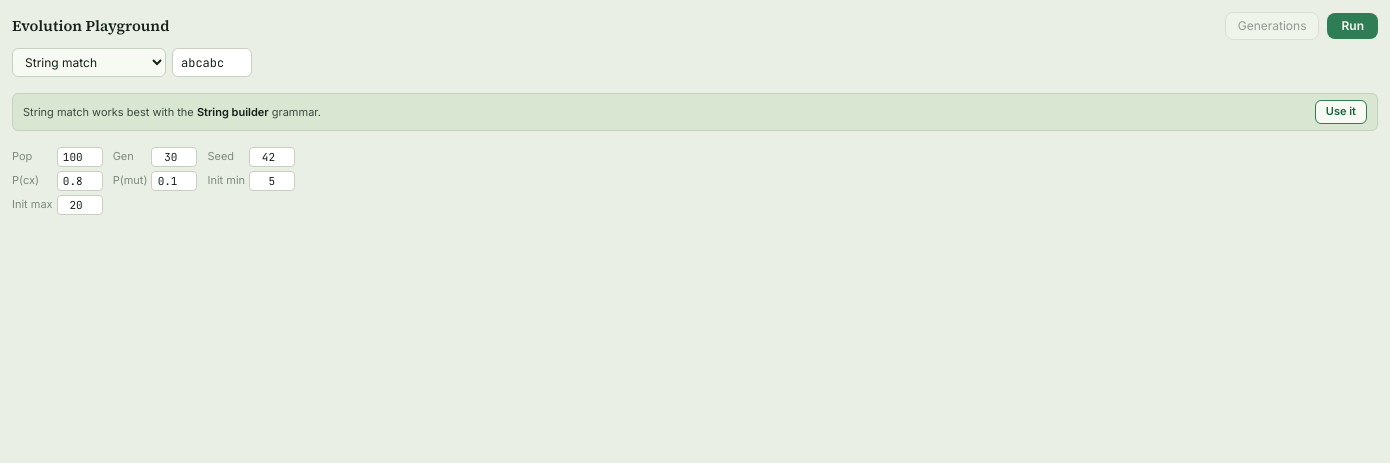
Test: EvolutionPanel › blocks a run while the custom fitness cannot compile
This screenshot has width=1390, height=463.
Select "Custom (Python)" in the dropdown: {"x": 89, "y": 63} [12,48,166,77]
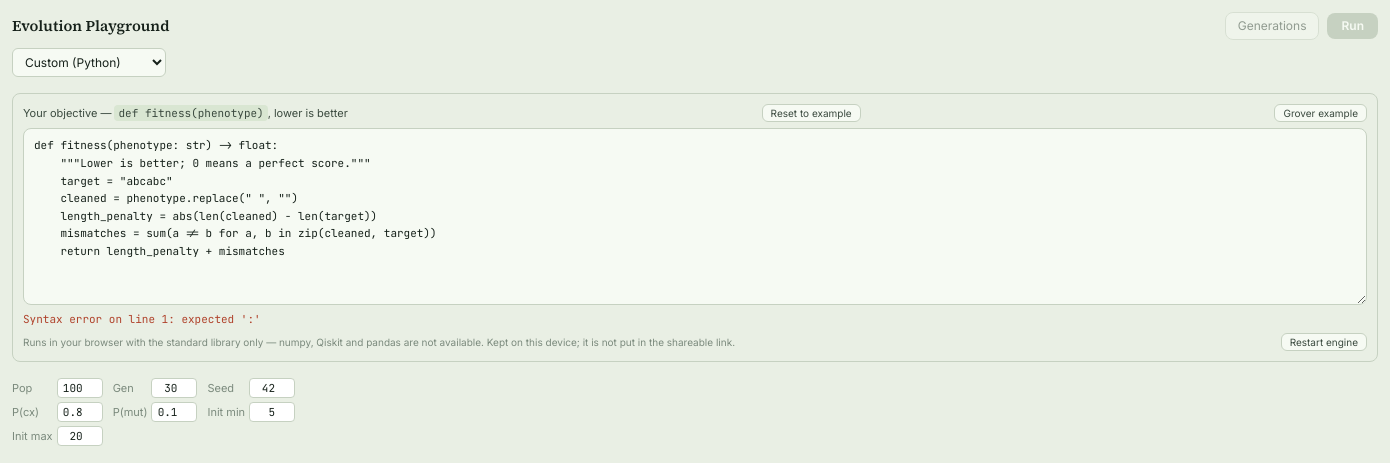
Expected: the text "Syntax error on line 1: expected ':'" is shown, [23,312,261,326]
Expected: the button "Run" is disabled, [1328,13,1378,39]
